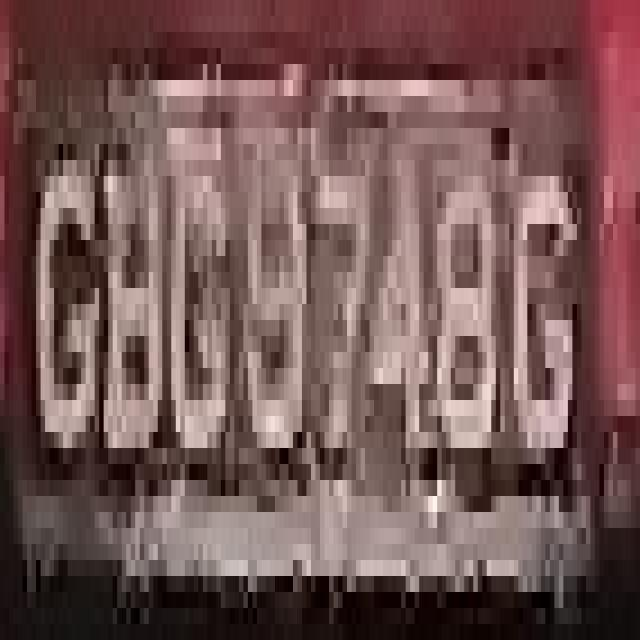4: (365, 128, 437, 496)
7: (306, 128, 369, 496)
8: (437, 128, 505, 464)
9: (239, 112, 306, 480)
B: (99, 112, 167, 480)
G: (167, 160, 234, 512), (505, 128, 572, 480), (32, 144, 94, 448)
